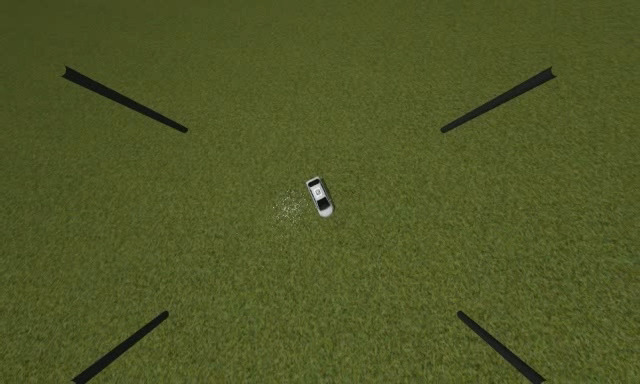Car: (305, 175, 336, 219)
Landing Pad: (315, 188, 322, 196)
